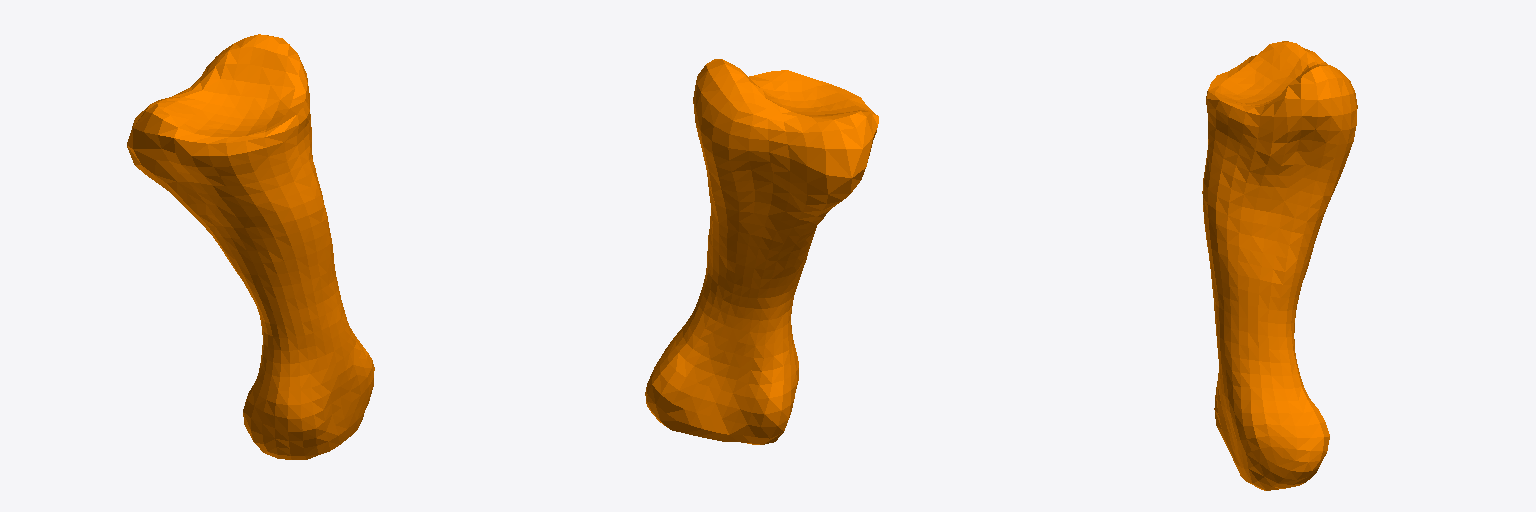
File: ProximalPhalanx_3.obj
3 renders of one model, left to right at view 1: azimuth 30°, elevation 25°; view 2: azimuth 150°, elevation 25°; view 3: azimuth 270°, elevation 25°, orthographic.
Parts seen in each view (by area): view 1: Object_0ProximalPhalanx_3; view 2: Object_0ProximalPhalanx_3; view 3: Object_0ProximalPhalanx_3.
Part boxes in pixels (left/top/right/bottom): Object_0ProximalPhalanx_3: left=127, top=34, right=374, bottom=459; Object_0ProximalPhalanx_3: left=645, top=59, right=878, bottom=444; Object_0ProximalPhalanx_3: left=1202, top=41, right=1357, bottom=490.
Size of the model in its own units: 18.56 by 32.26 by 11.26.